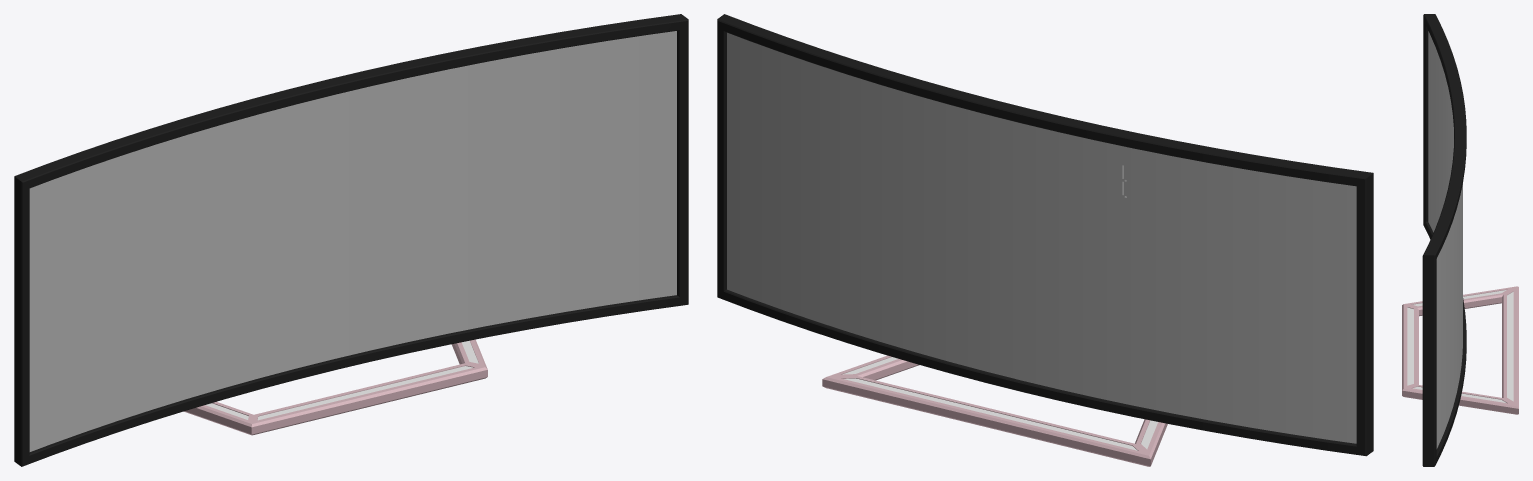
The model's file is ElClock.fbx.
The picture shows the model from 3 angles, left to right: view 1: azimuth 30°, elevation 25°; view 2: azimuth 150°, elevation 25°; view 3: azimuth 270°, elevation 25°; orthographic projection. The views are drawn at different scales.
Visible parts, largest first — view 1: ElClock; view 2: ElClock; view 3: ElClock.
Boxes of the visible parts, box(x1,y1,x2,y2) form: ElClock: box(14, 14, 688, 466); ElClock: box(717, 14, 1373, 466); ElClock: box(1402, 14, 1518, 466).
Size of the model in its own units: 0.3197 by 0.136 by 0.0654.
